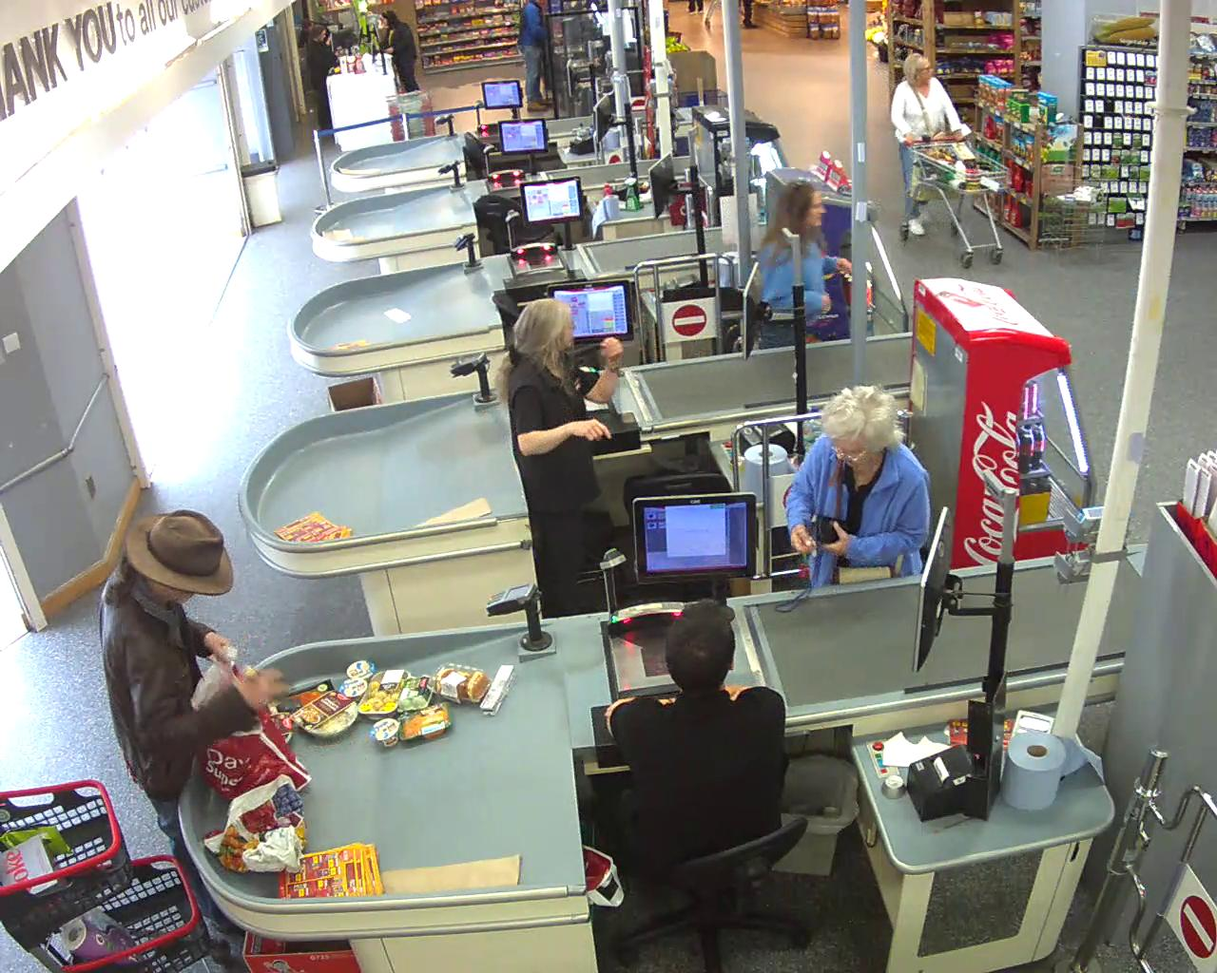filled-trolly: (899, 131, 1009, 268)
occupied-checkout-counter: (485, 489, 817, 935), (451, 278, 653, 501)
person: (891, 53, 963, 235)
person-with-filled-basket-trolly: (891, 53, 1009, 268)
vacant-checkout-counter: (453, 175, 587, 328), (438, 117, 560, 240), (435, 79, 531, 165)
